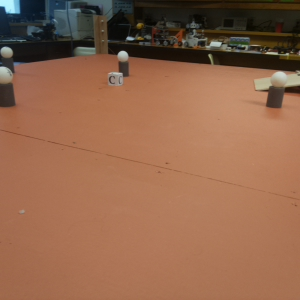obstacle: (269, 72, 285, 109), (1, 67, 15, 104), (117, 51, 129, 79), (1, 45, 14, 70)
slope: (256, 71, 300, 94)
